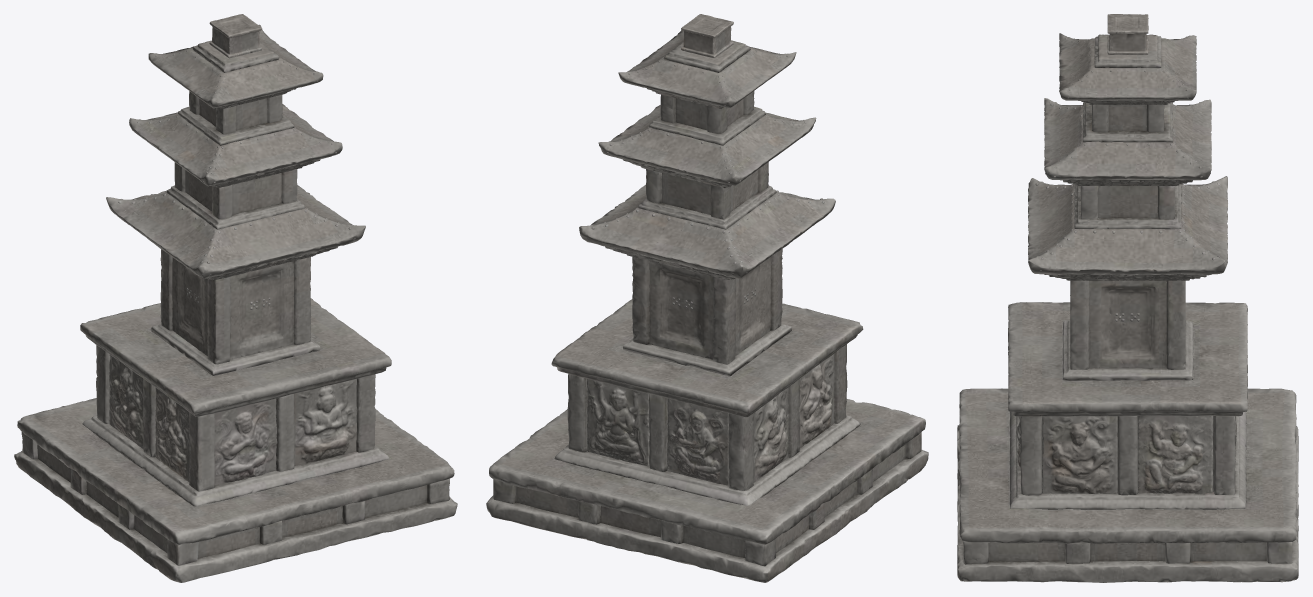
File: tap_e.glb
The picture shows the model from 3 angles, left to right: view 1: azimuth 30°, elevation 25°; view 2: azimuth 150°, elevation 25°; view 3: azimuth 270°, elevation 25°; orthographic projection. The views are drawn at different scales.
Parts seen in each view (by area): view 1: 0101__0, 0101__0.001; view 2: 0101__0, 0101__0.001; view 3: 0101__0, 0101__0.001.
Boxes of the visible parts, <box> form: 0101__0: <box>14,24,457,582</box>; 0101__0.001: <box>209,14,346,500</box>; 0101__0: <box>486,30,928,582</box>; 0101__0.001: <box>681,14,755,58</box>; 0101__0: <box>957,33,1298,582</box>; 0101__0.001: <box>959,14,1213,493</box>.
Size of the model in its own units: 3.41 by 5.38 by 3.4.
Materials: 1 (1 with a texture image).
